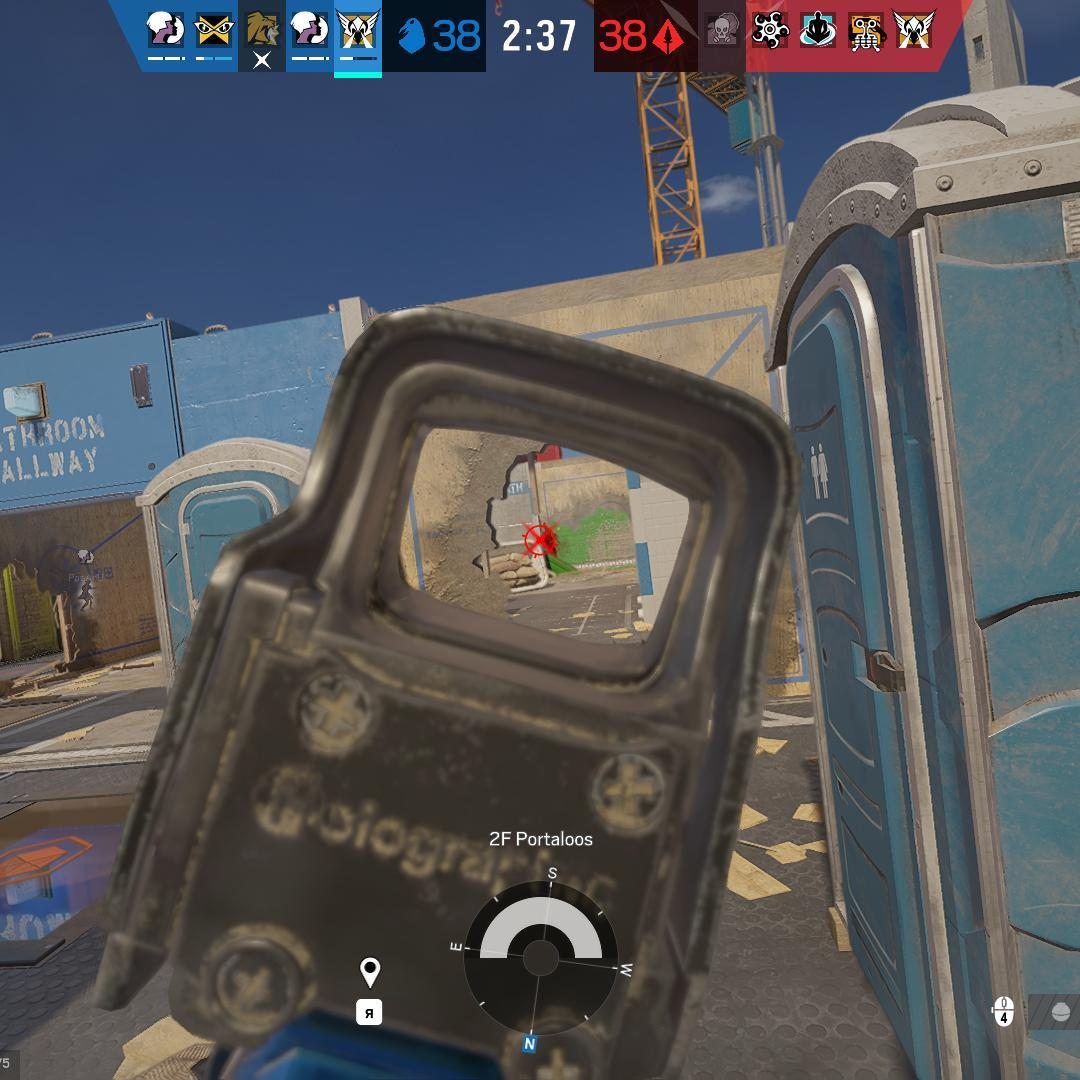Friend_label: (67, 549, 109, 584)
